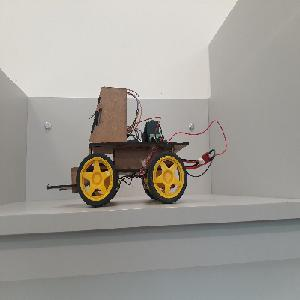Robot: (46, 85, 190, 206)
